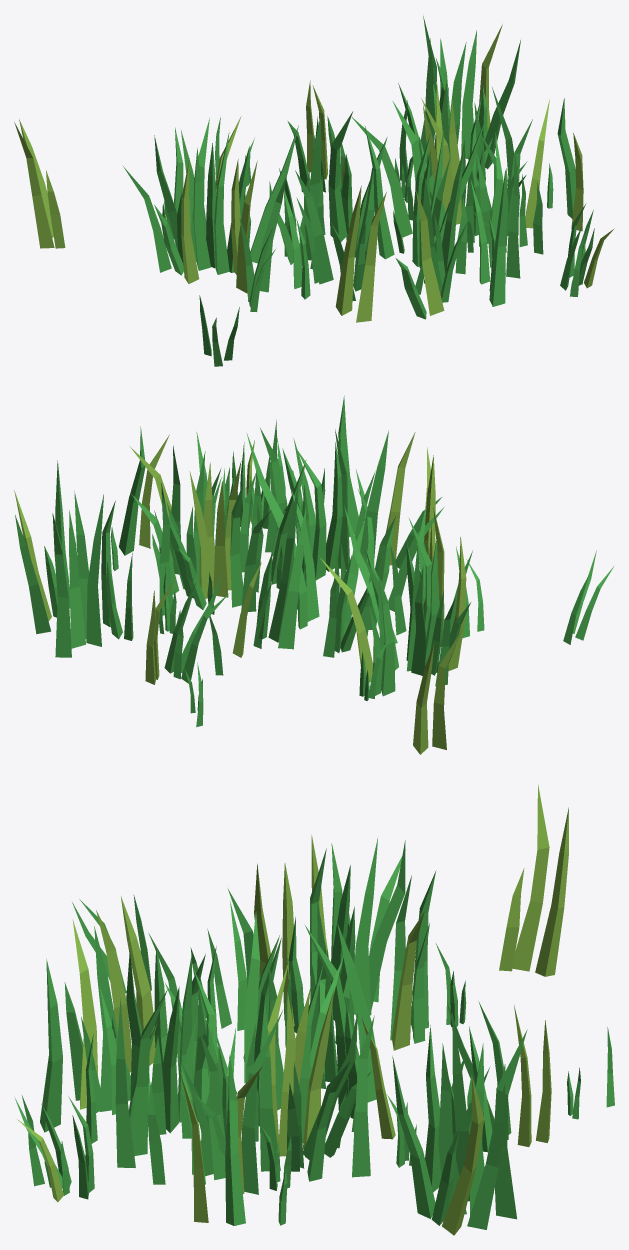
The model's file is Grass.glb.
3 renders of one model, top to bottom at view 1: azimuth 30°, elevation 25°; view 2: azimuth 150°, elevation 25°; view 3: azimuth 270°, elevation 25°, orthographic. The views are drawn at different scales.
Parts seen in each view (by area): view 1: grass; view 2: grass; view 3: grass.
Boxes of the visible parts, x1,y1,x2,y2 form: grass: [14, 16, 614, 366]; grass: [14, 396, 613, 754]; grass: [14, 784, 614, 1235].
Size of the model in its own units: 0.9109 by 0.295 by 0.7792.
